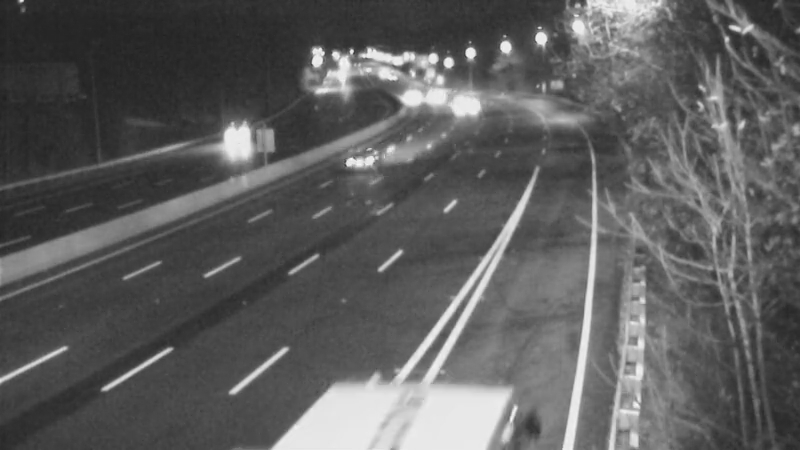vehicle: (315, 123, 395, 203), (365, 50, 415, 100), (410, 69, 460, 119), (379, 72, 429, 122), (439, 74, 489, 124), (435, 84, 485, 134), (213, 114, 263, 164)
